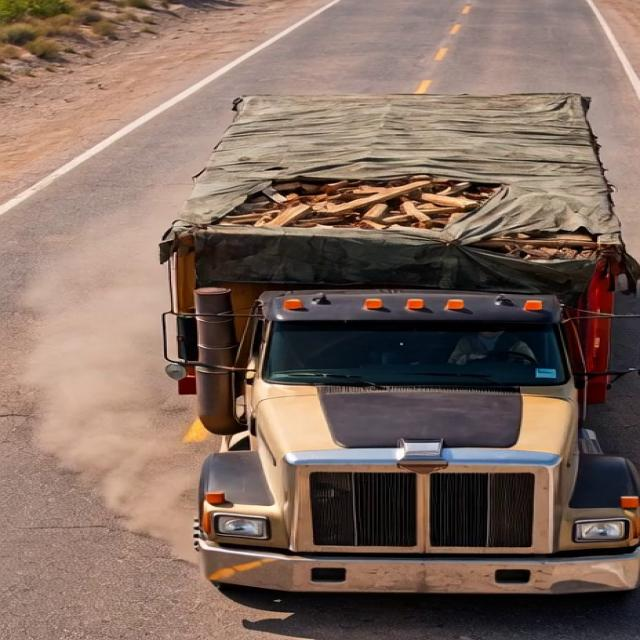trailer: (161, 84, 638, 260)
truck: (142, 68, 640, 606)
